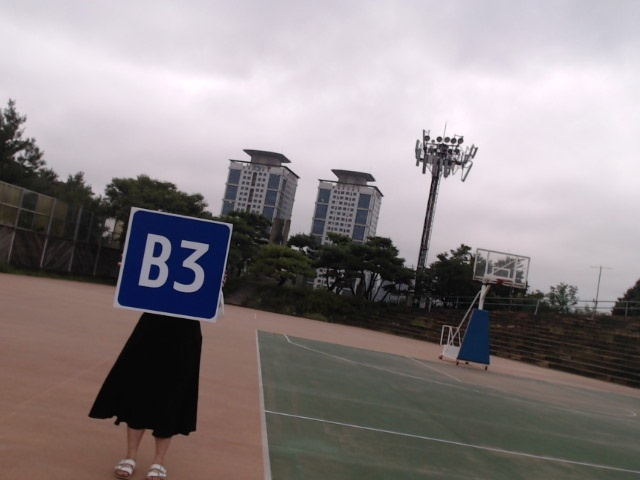delivery_b3: (116, 207, 231, 321)
